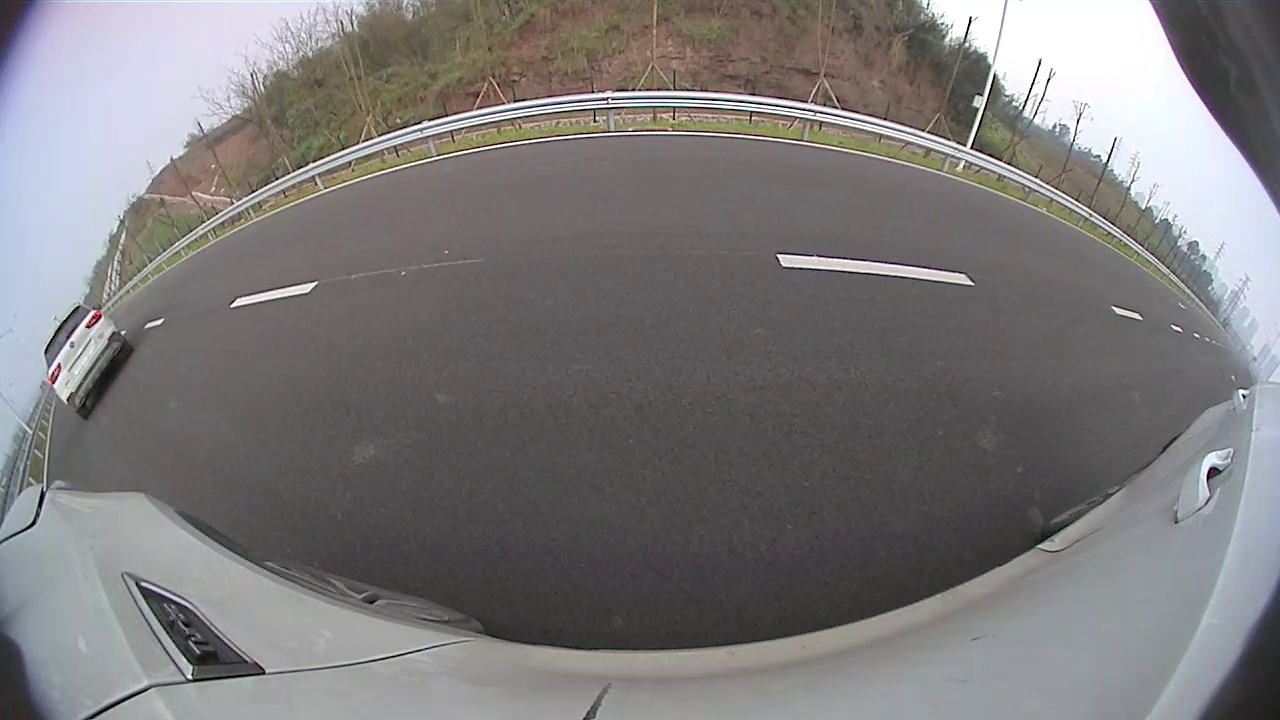car: (546, 142, 614, 204)
